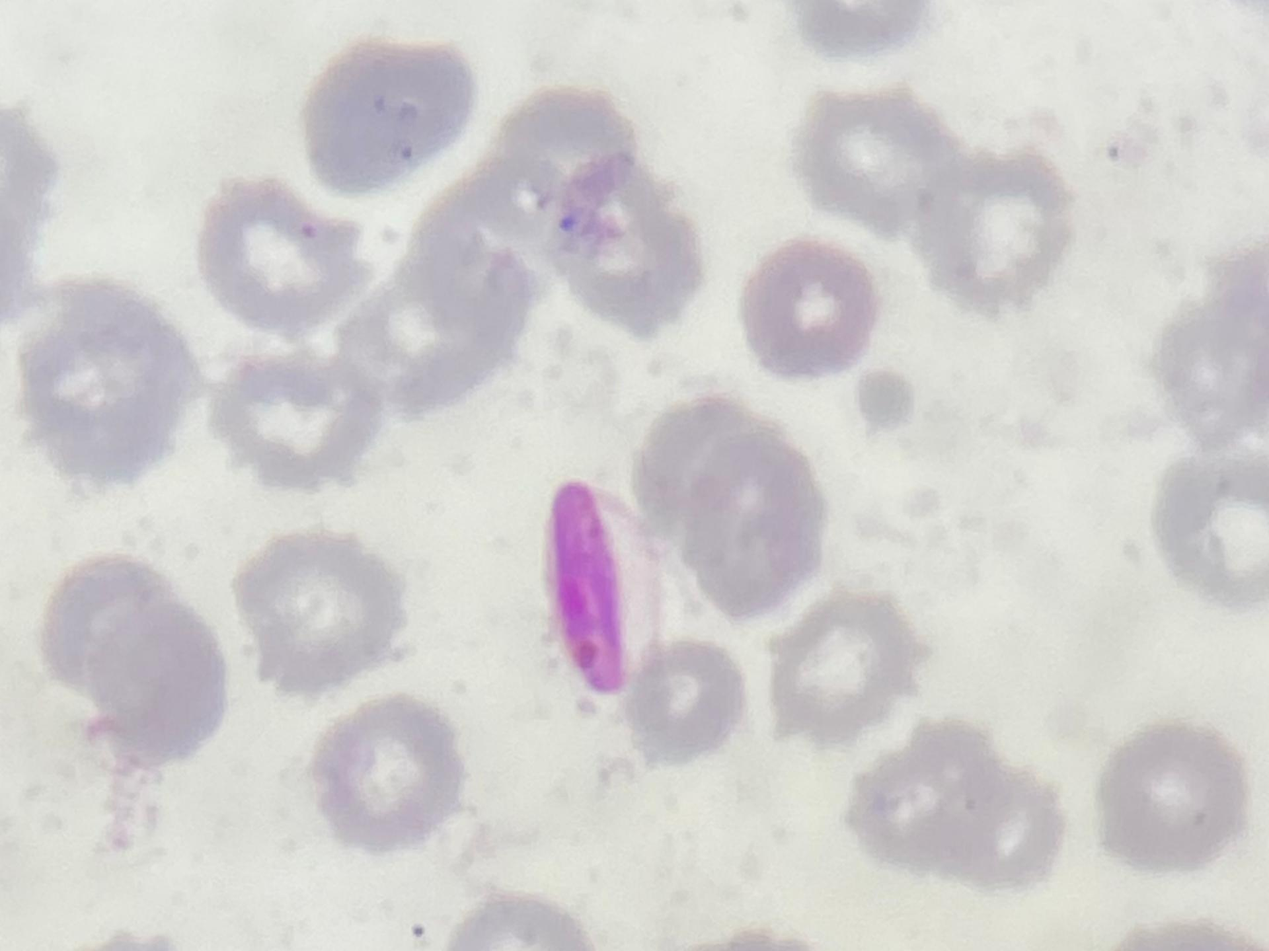Infected: (546, 477, 657, 696)
Uninfected: (633, 396, 824, 617), (506, 127, 701, 330), (19, 283, 199, 485), (849, 722, 1058, 886), (373, 196, 549, 387), (232, 530, 406, 693), (917, 144, 1075, 320), (199, 177, 364, 334), (41, 556, 198, 717), (305, 41, 473, 191), (213, 352, 387, 496), (309, 698, 465, 851), (769, 594, 925, 743), (1095, 722, 1245, 868), (801, 91, 953, 229), (744, 237, 880, 373), (488, 87, 641, 204), (1150, 457, 1266, 604), (625, 645, 742, 763)
